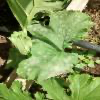Squash Powdery mildew leaf: (13, 39, 81, 83), (27, 10, 96, 50)
